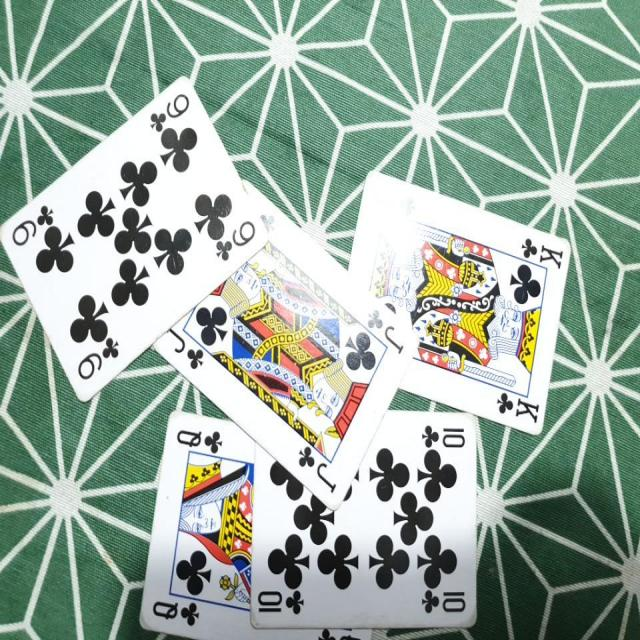10 Trefoils: (248, 409, 477, 628)
9 Trefoils: (1, 70, 269, 401)
J Trefoils: (149, 177, 420, 510)
K Trefoils: (347, 167, 572, 435)
Q Trefoils: (139, 407, 370, 640)
